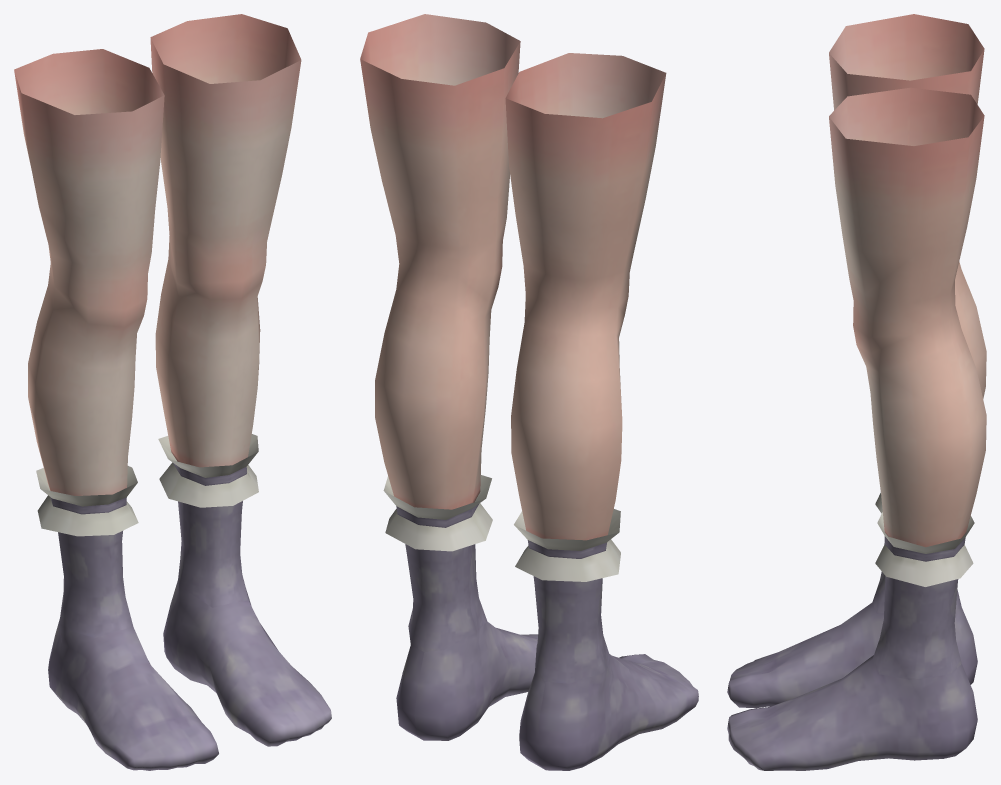
Rendered from p0_lgw0003_00_lgw00.gltf.
3 renders of one model, left to right at view 1: azimuth 30°, elevation 25°; view 2: azimuth 150°, elevation 25°; view 3: azimuth 270°, elevation 25°, orthographic. The views are drawn at different scales.
Visible parts, largest first — view 1: lgw00_legs01_mesh_shape:legs_skin, lgw00_legs02_mesh_shape:legs_skin, lgw00_legs00_mesh_shape:legs, lgw00_legs01_mesh_shape:legs; view 2: lgw00_legs01_mesh_shape:legs_skin, lgw00_legs02_mesh_shape:legs_skin, lgw00_legs00_mesh_shape:legs, lgw00_legs01_mesh_shape:legs; view 3: lgw00_legs00_mesh_shape:legs, lgw00_legs02_mesh_shape:legs_skin, lgw00_legs01_mesh_shape:legs_skin, lgw00_legs01_mesh_shape:legs.
Part boxes in pixels (box(x1,y1,x2,y2)): lgw00_legs01_mesh_shape:legs_skin: box(28, 156, 281, 495); lgw00_legs02_mesh_shape:legs_skin: box(14, 14, 301, 224); lgw00_legs00_mesh_shape:legs: box(48, 501, 331, 770); lgw00_legs01_mesh_shape:legs: box(36, 434, 258, 549); lgw00_legs01_mesh_shape:legs_skin: box(375, 171, 645, 540); lgw00_legs02_mesh_shape:legs_skin: box(360, 14, 666, 231); lgw00_legs00_mesh_shape:legs: box(396, 544, 698, 770); lgw00_legs01_mesh_shape:legs: box(383, 475, 620, 594); lgw00_legs00_mesh_shape:legs: box(727, 536, 977, 770); lgw00_legs02_mesh_shape:legs_skin: box(829, 14, 984, 256); lgw00_legs01_mesh_shape:legs_skin: box(842, 228, 986, 547); lgw00_legs01_mesh_shape:legs: box(875, 492, 974, 596).
Size of what is drawn, in the model's own units: 0.2758 by 0.6251 by 0.2287.
2 materials, 2 textured.
